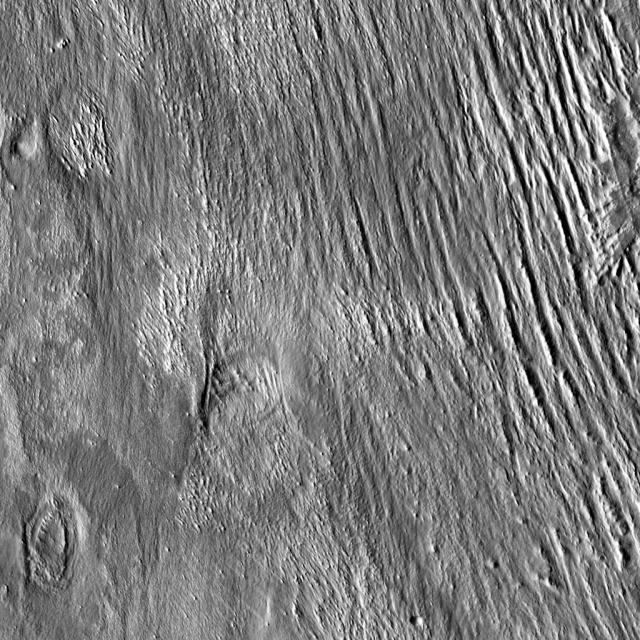crater: (214, 352, 285, 422), (416, 616, 428, 628)
